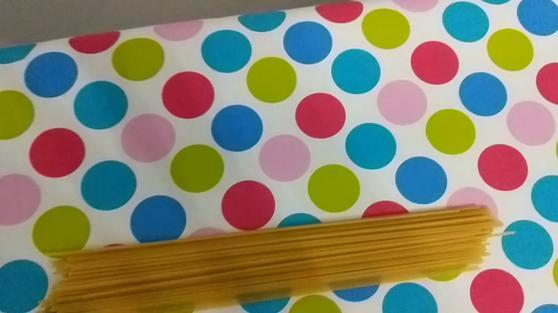spaghetti: (26, 209, 507, 313)
